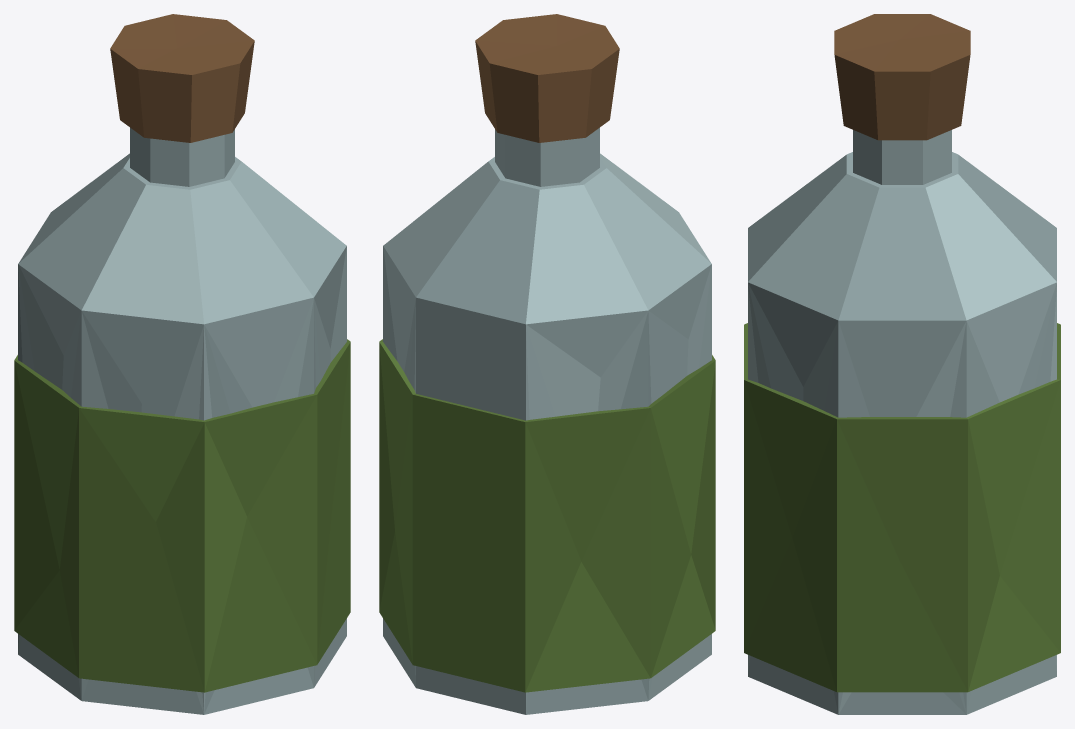
The model's file is poison_vial_slabyy_idle.glb.
The picture shows the model from 3 angles, left to right: view 1: azimuth 30°, elevation 25°; view 2: azimuth 150°, elevation 25°; view 3: azimuth 270°, elevation 25°; orthographic projection.
Parts seen in each view (by area): view 1: poison_vial_slabyy_idle; view 2: poison_vial_slabyy_idle; view 3: poison_vial_slabyy_idle.
Boxes of the visible parts, bbox=[...] form: poison_vial_slabyy_idle: bbox=[14, 14, 350, 714]; poison_vial_slabyy_idle: bbox=[379, 14, 715, 714]; poison_vial_slabyy_idle: bbox=[744, 14, 1060, 714].
Bounding box in the file's own units: 0.0473 × 0.1 × 0.0473.
1 material, 1 textured.
